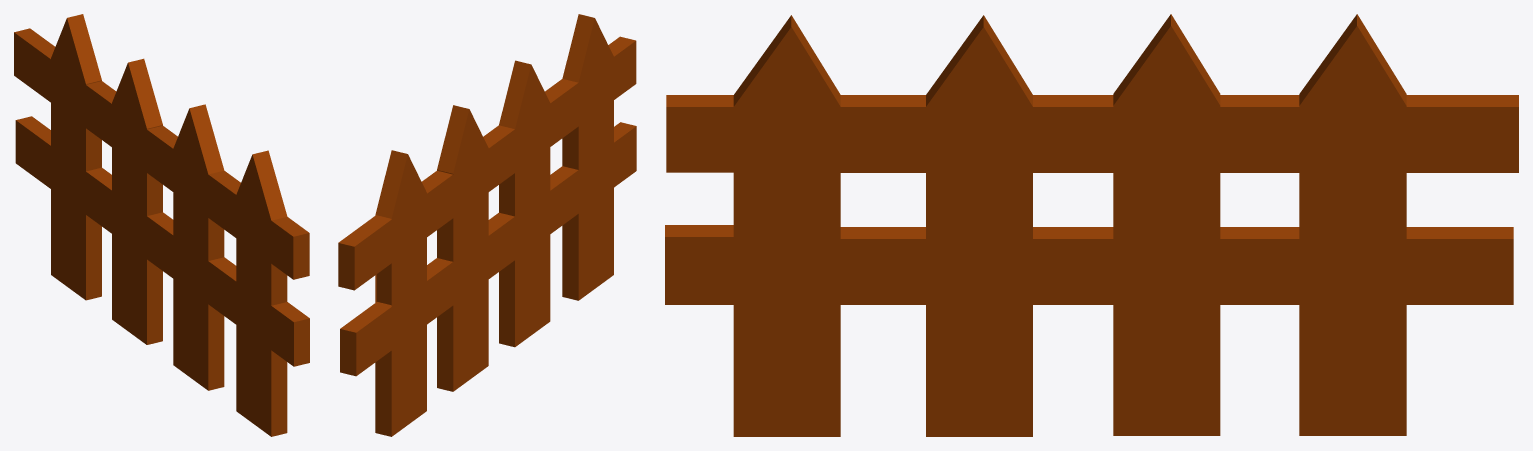
File: hek.fbx
The picture shows the model from 3 angles, left to right: view 1: azimuth 30°, elevation 25°; view 2: azimuth 150°, elevation 25°; view 3: azimuth 270°, elevation 25°; orthographic projection. The views are drawn at different scales.
Visible parts, largest first — view 1: Cube; view 2: Cube; view 3: Cube.
Part boxes in pixels (<box>): Cube: <box>14,14,309,436</box>; Cube: <box>338,14,636,436</box>; Cube: <box>665,14,1518,436</box>.
Size of the model in its own units: 15.19 by 243 by 458.
